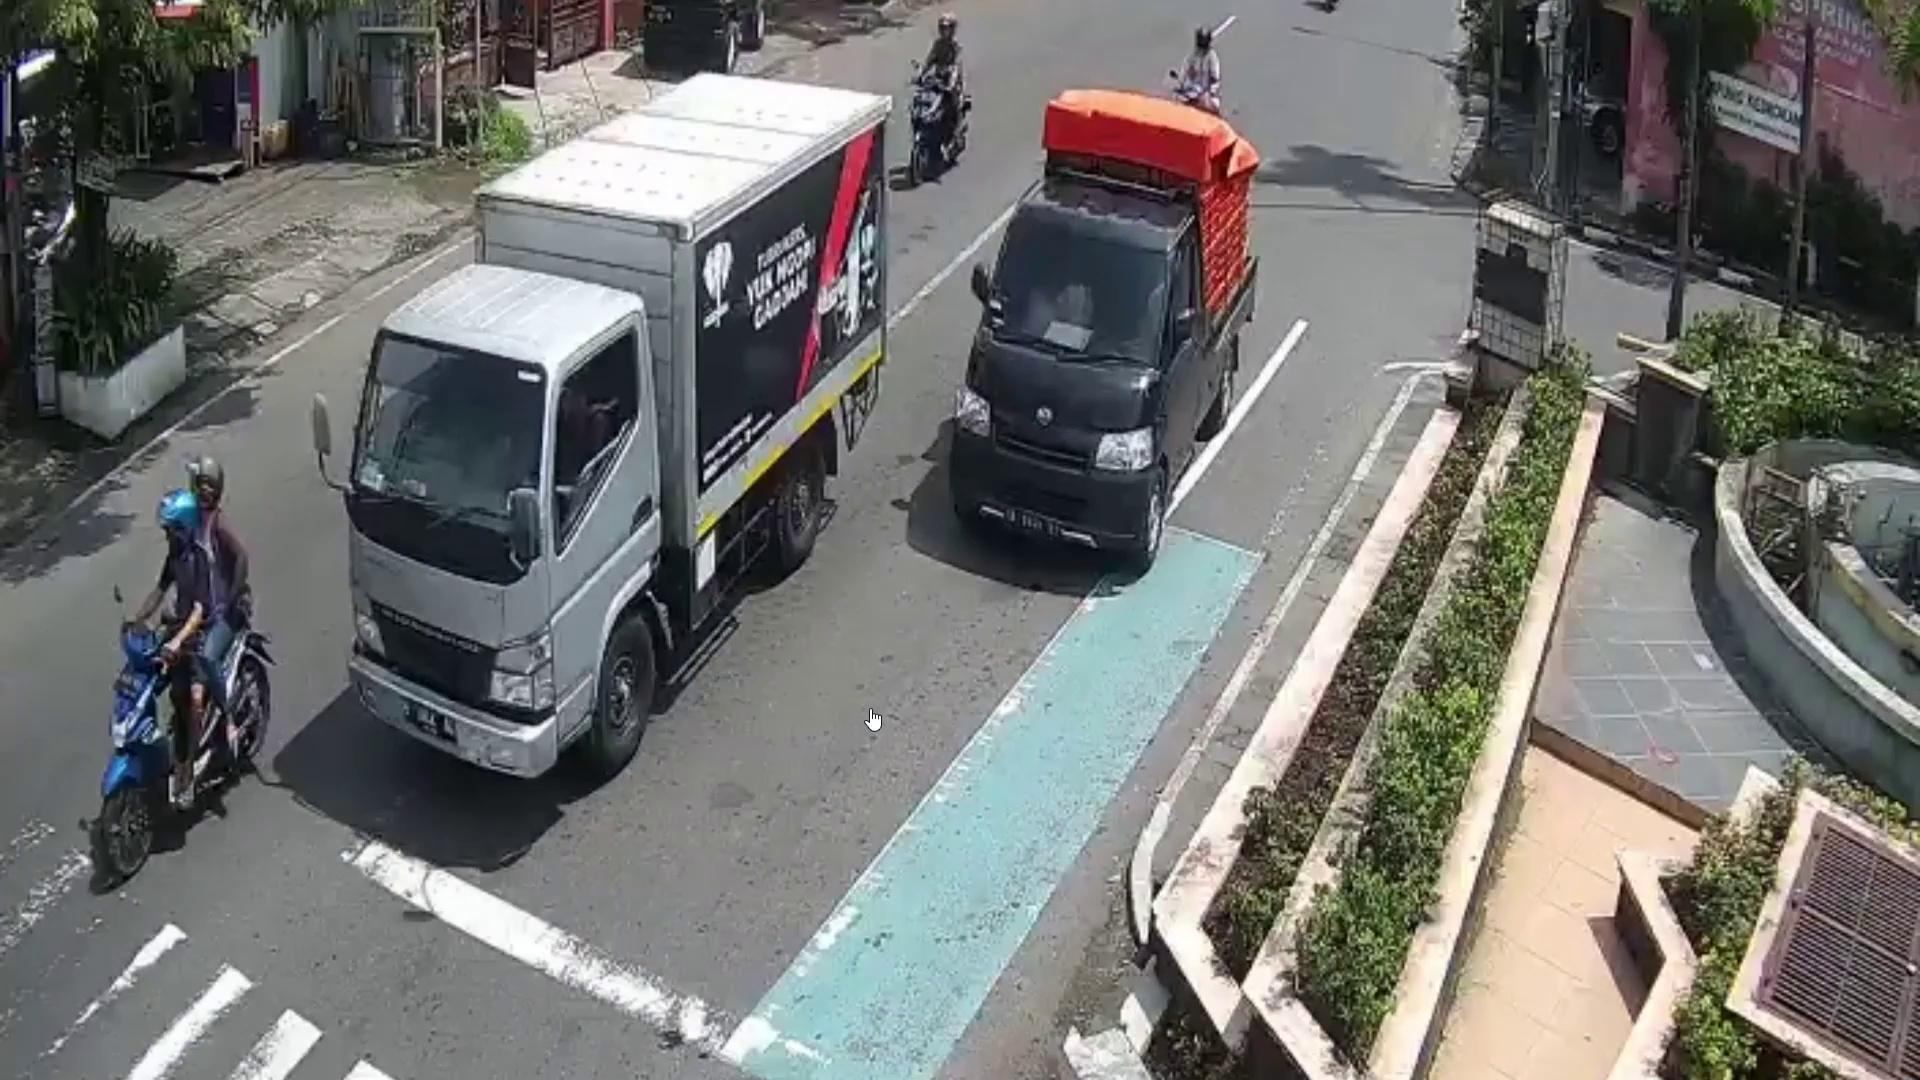car: (951, 175, 1254, 563)
motorbike: (98, 582, 270, 885), (913, 65, 972, 183)
truck: (351, 70, 889, 783)
